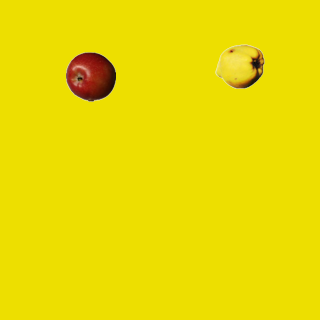Apple Braeburn: (65, 51, 115, 101)
Quince: (214, 41, 264, 91)
